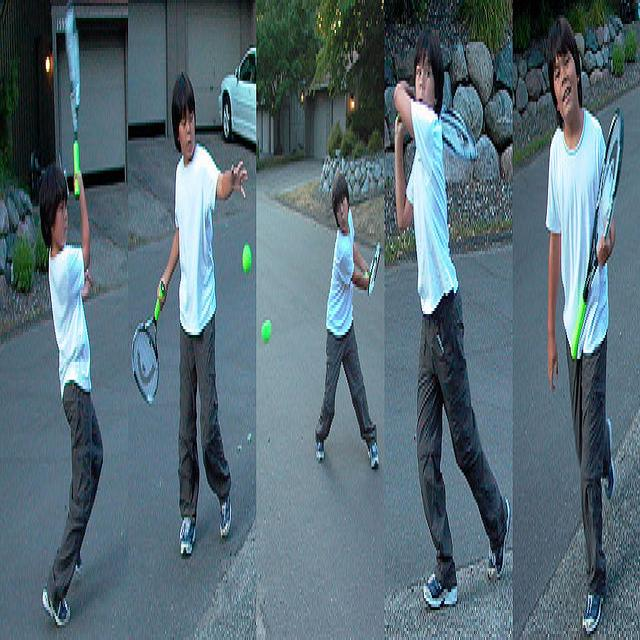Vehicle: (218, 46, 257, 146)
